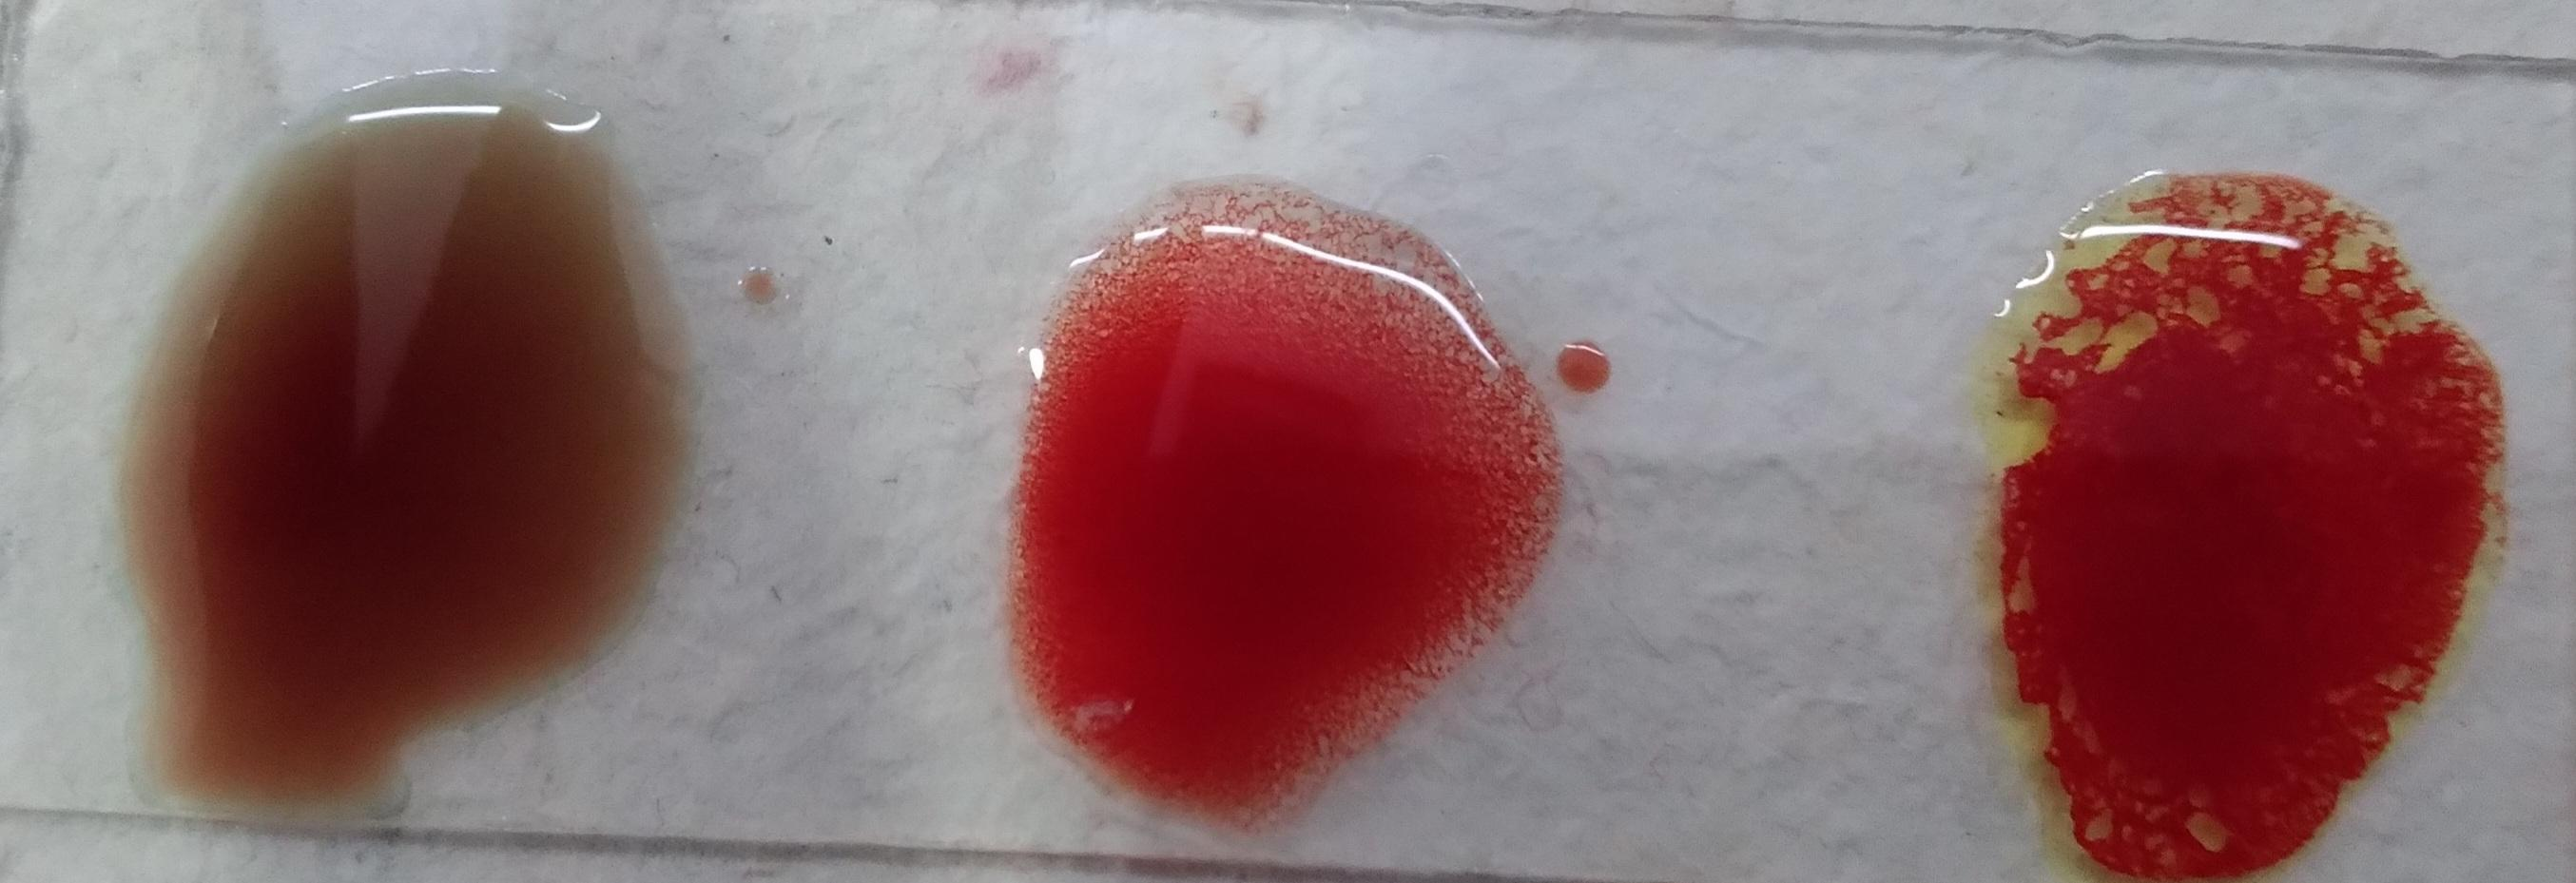B: (1962, 174, 2499, 883)
D: (999, 172, 1552, 839)
